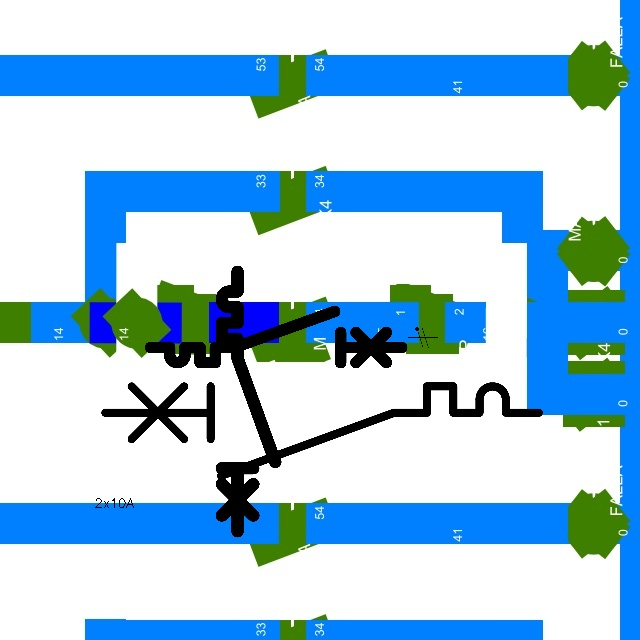interruptor_termomagnetico: (94, 375, 550, 486), (215, 265, 281, 538), (144, 305, 408, 369)
